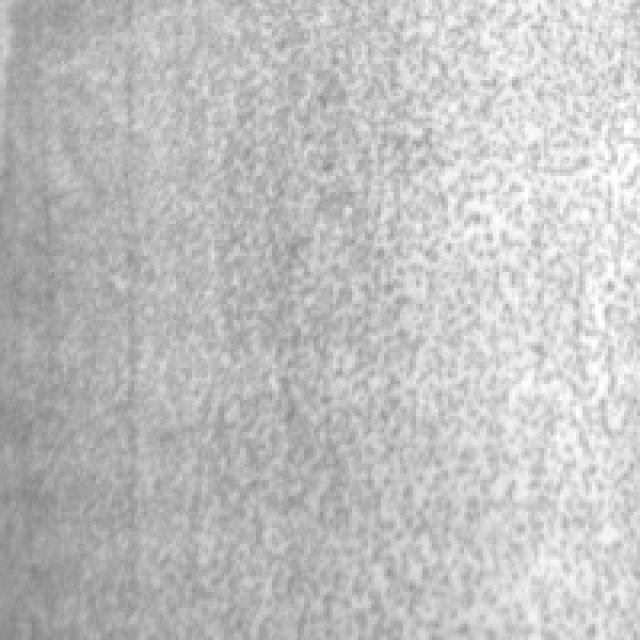pitted_surface: (6, 0, 636, 630)
